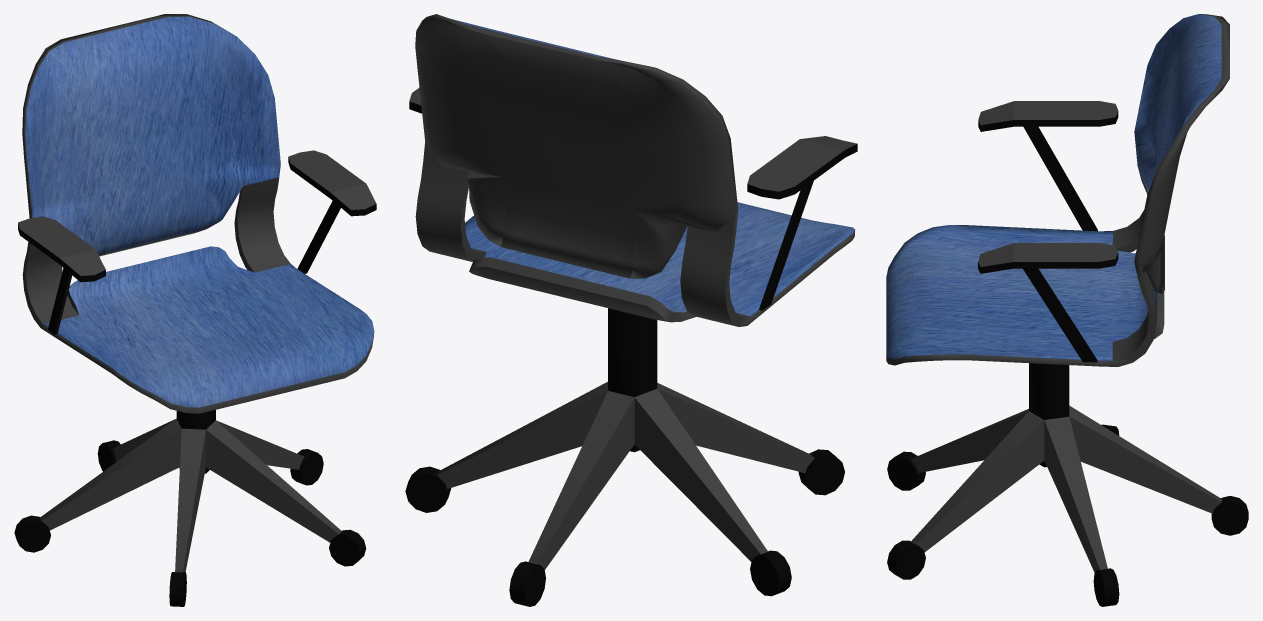
The model's file is co-officechair.glb.
3 renders of one model, left to right at view 1: azimuth 30°, elevation 25°; view 2: azimuth 150°, elevation 25°; view 3: azimuth 270°, elevation 25°, orthographic. The views are drawn at different scales.
Visible parts, largest first — view 1: OfficeChair_1, OfficeChair_2, OfficeChair_3; view 2: OfficeChair_2, OfficeChair_3, OfficeChair_1; view 3: OfficeChair_1, OfficeChair_2, OfficeChair_3.
Part boxes in pixels (x1,y1,x2,y2): OfficeChair_1: [25, 16, 374, 407]; OfficeChair_2: [18, 14, 376, 572]; OfficeChair_3: [14, 157, 376, 606]; OfficeChair_2: [409, 14, 856, 569]; OfficeChair_3: [405, 101, 857, 606]; OfficeChair_1: [450, 18, 854, 316]; OfficeChair_1: [886, 14, 1221, 360]; OfficeChair_2: [886, 14, 1229, 572]; OfficeChair_3: [887, 111, 1248, 606].
Size of the model in its own units: 0.6262 by 0.8734 by 0.5967.
3 materials, 1 textured.
